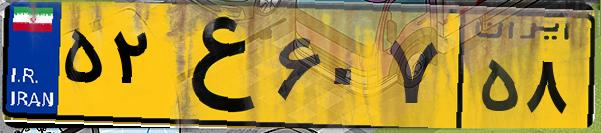0: (330, 28, 385, 110)
2: (110, 28, 158, 98)
5: (57, 26, 110, 100), (475, 38, 525, 113)
6: (270, 28, 330, 110)
7: (385, 28, 445, 110)
8: (525, 38, 570, 115)
ع: (158, 12, 270, 120)
